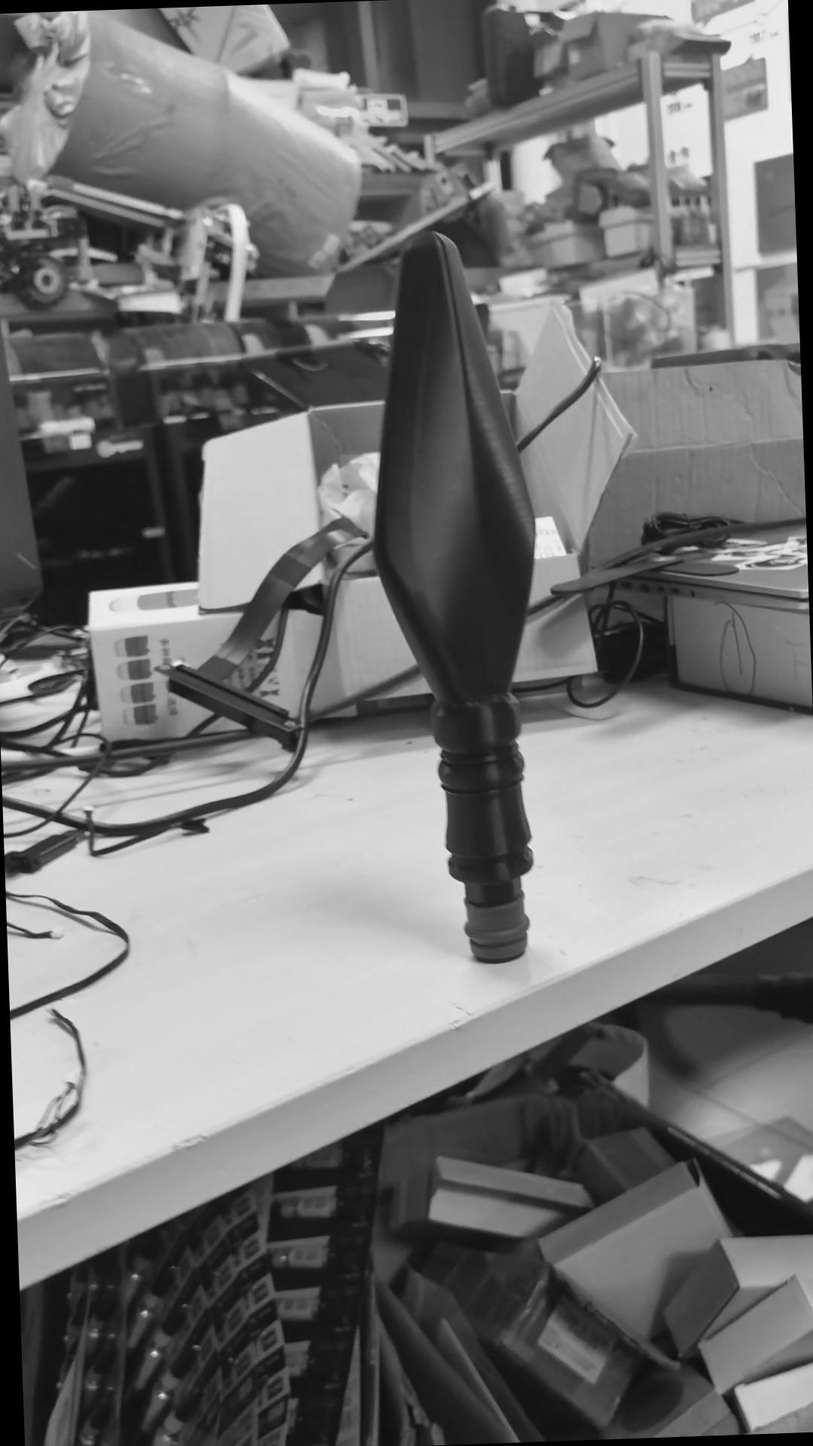base: (448, 892, 544, 979)
